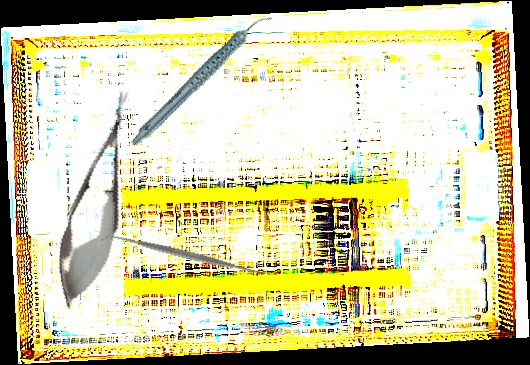Handpiece: (110, 12, 293, 149)
Micro Scissor: (43, 82, 152, 317)
Spatula Surgical: (100, 224, 269, 285)
